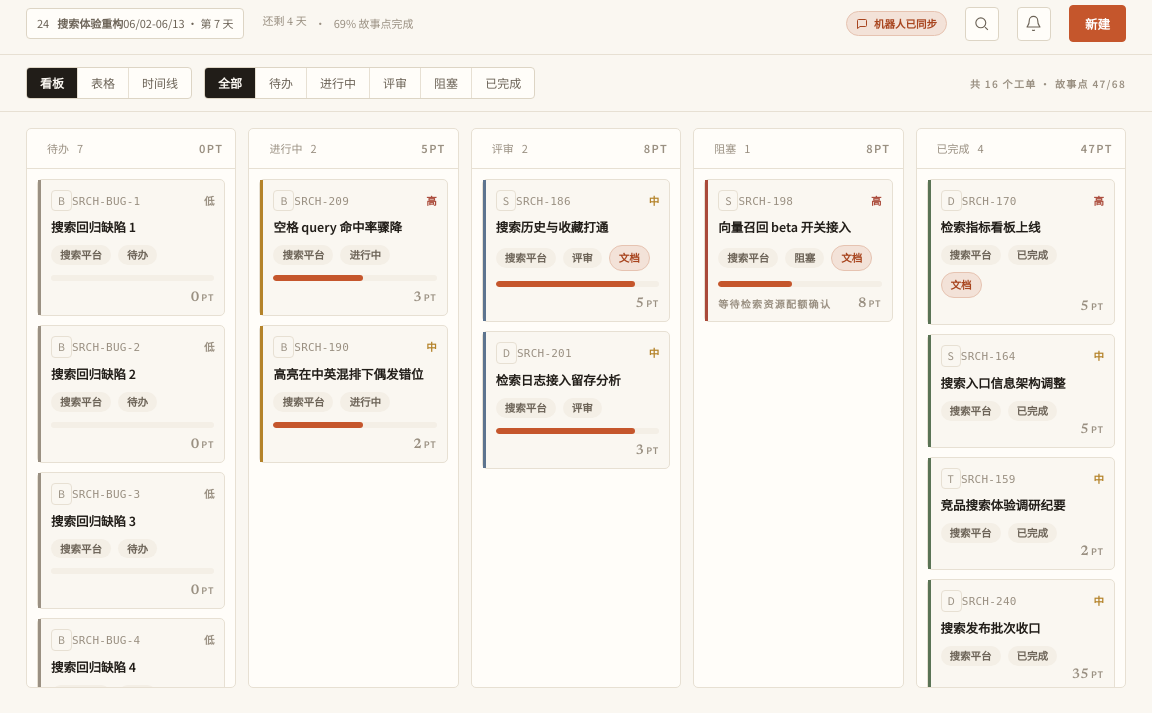
Test: issues ledger and board routes › shows a status timeline with counts, points, and blocker context
Click the button "时间线": (160, 83) [129,68,191,98]
(page scrolled)
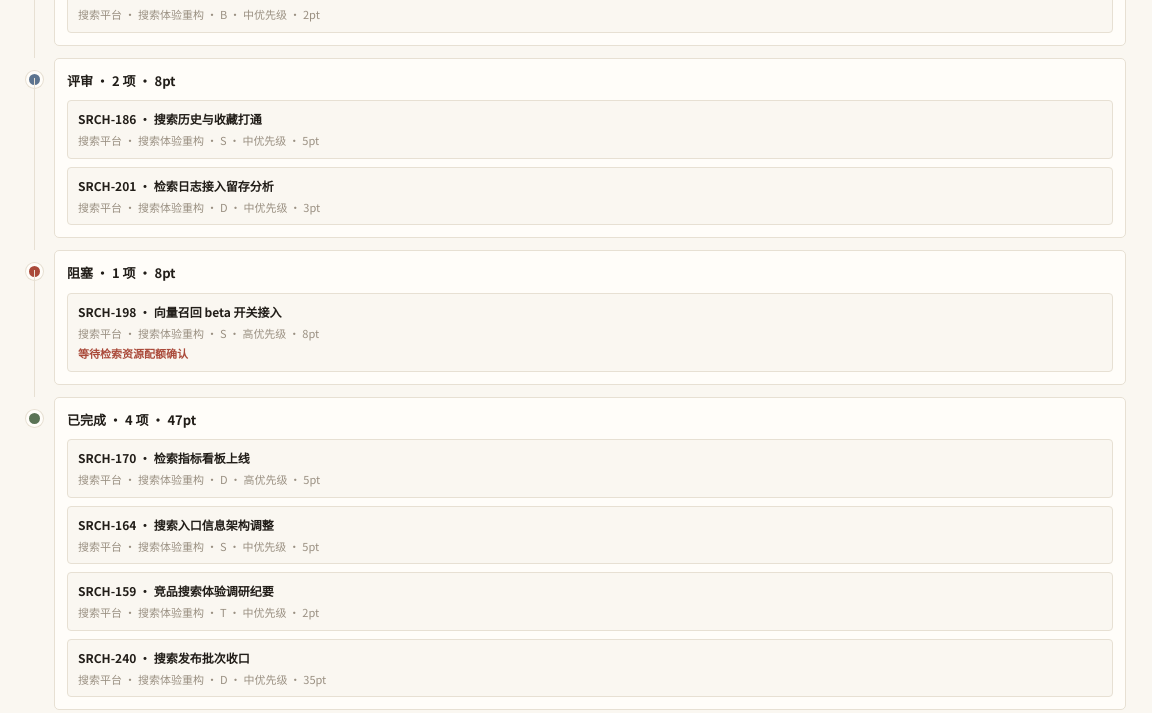
Expected: the text "阻塞 · 1 项 · 8pt" is shown, [67,263,176,282]
Expected: the text "评审 · 2 项 · 8pt" is shown, [67,70,176,90]
Expected: the text "已完成 · 4 项 · 47pt" is shown, [67,410,196,428]
